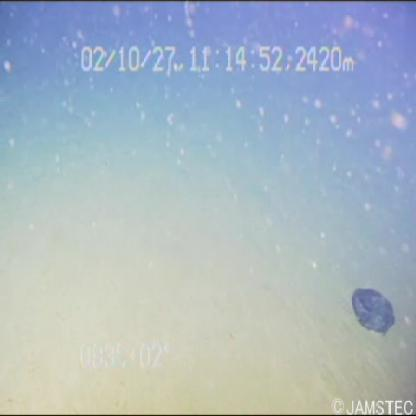Rác: (336, 275, 403, 348)
